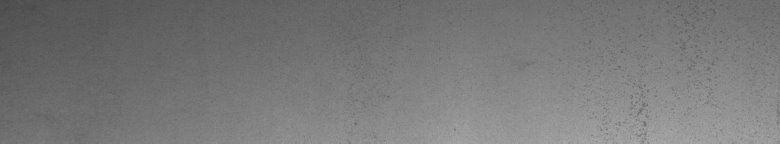ib: (616, 9, 716, 136)
